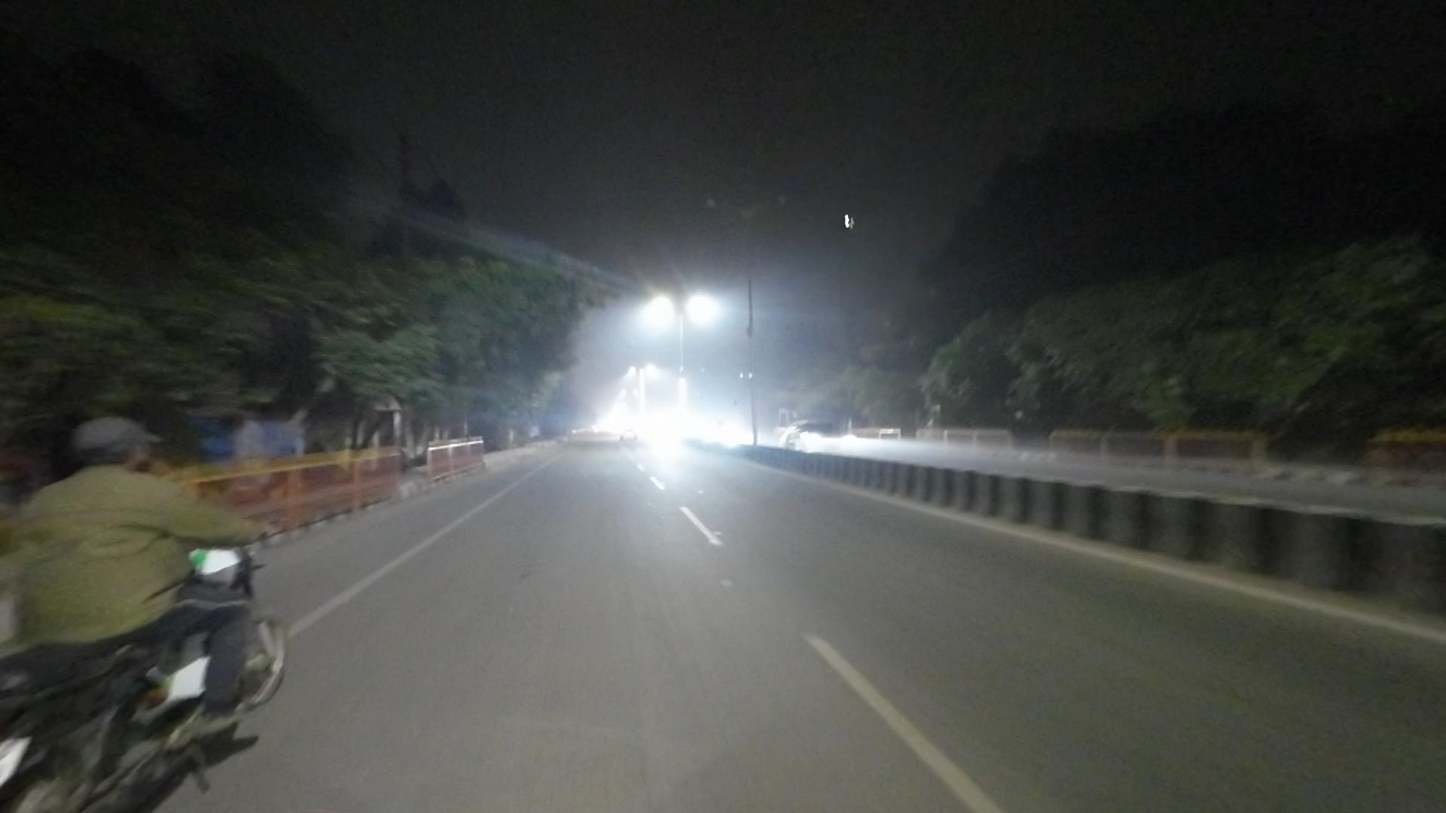streetlight: (706, 195, 742, 215), (751, 196, 787, 213)
